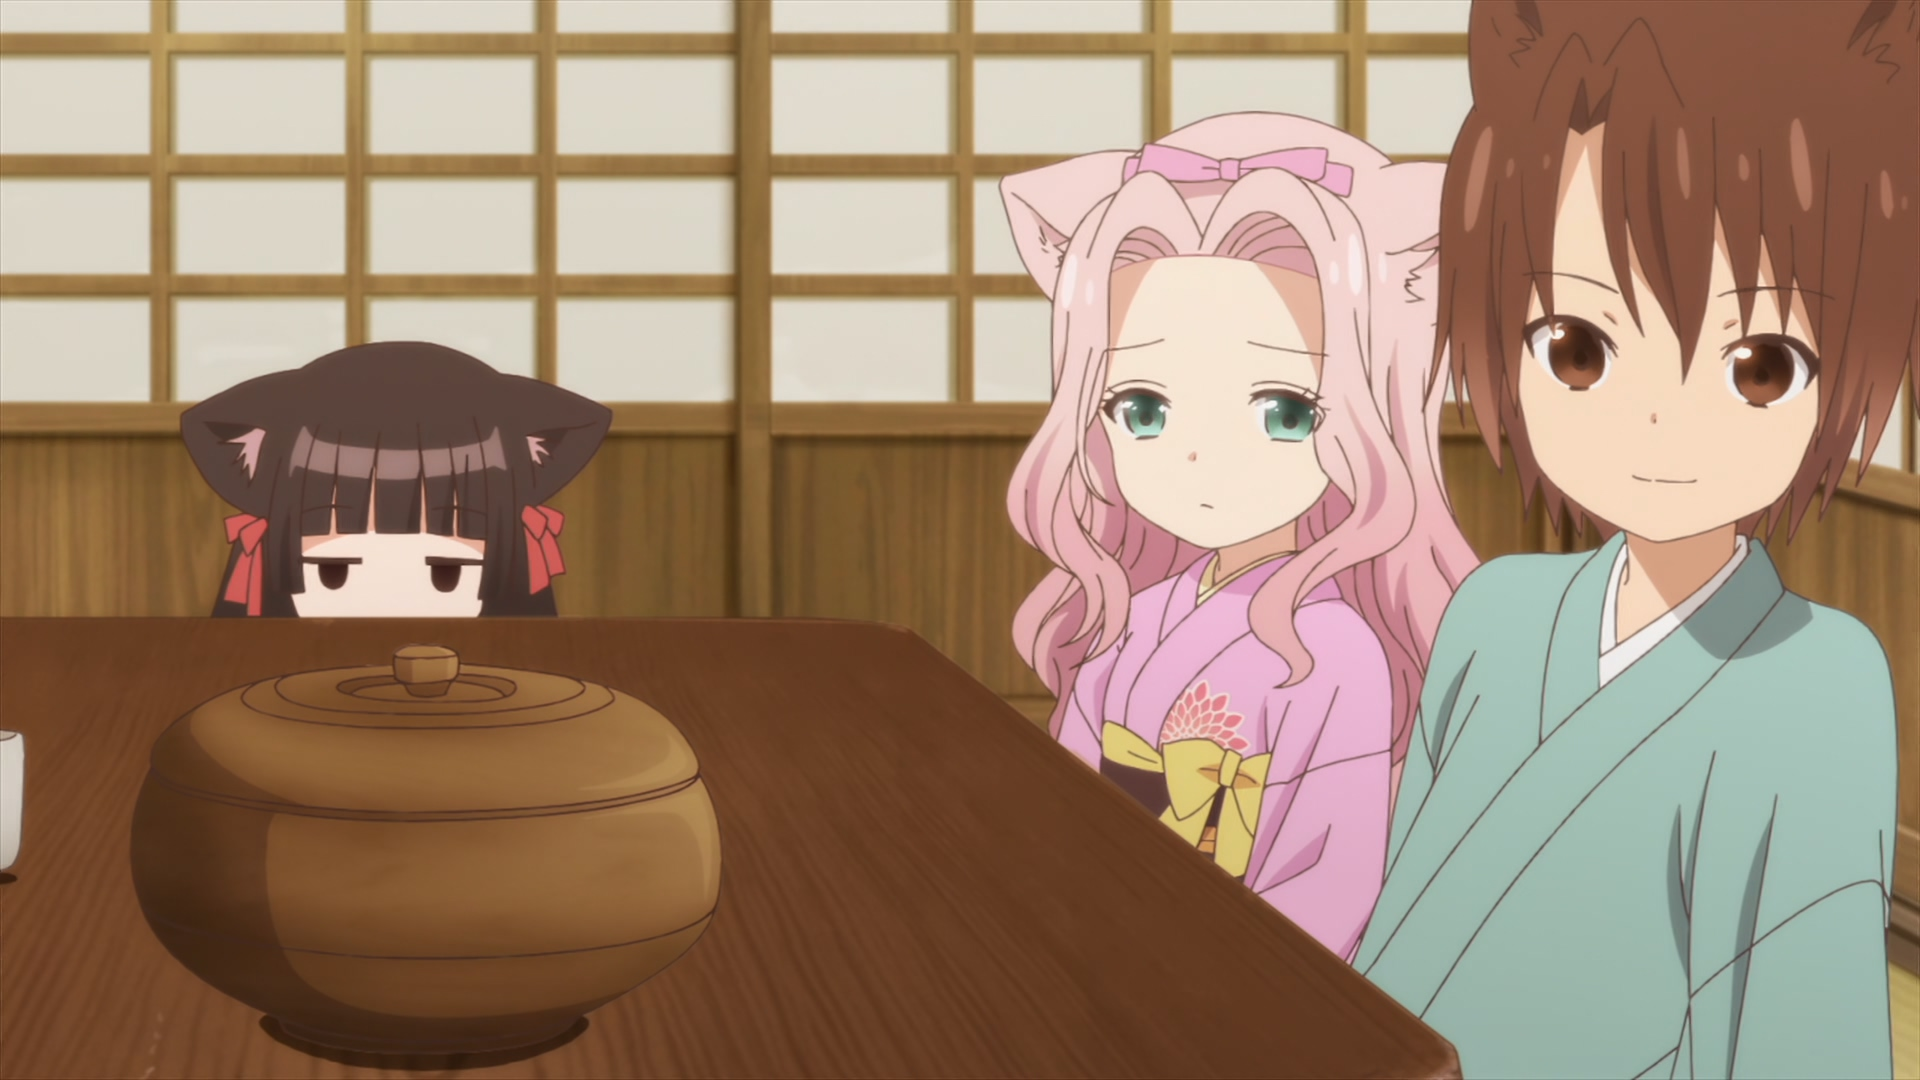枣: (1349, 1, 1920, 1080)
樱: (178, 339, 612, 617)
莲: (1000, 109, 1484, 965)
